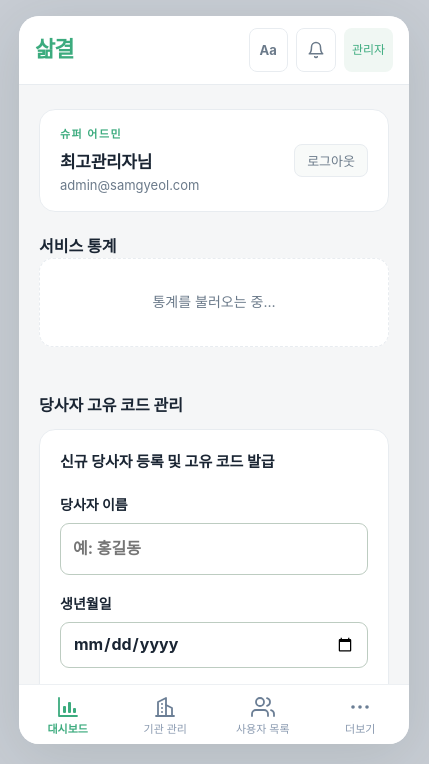
Test: 더보기 탭으로 이동하면 관리자 정보 및 시스템 현황이 표시된다
The width and height of the screenshot is (429, 764).
Click the tab "더보기" at {"x": 360, "y": 714}, box [312,685,409,744]
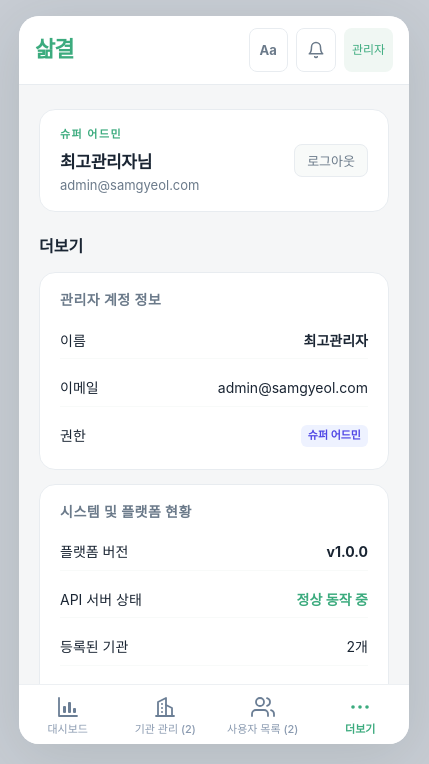
Check: the text "관리자 계정 정보" is shown, box [60,292,161,308]
Check: the text "플랫폼 버전" is shown, box [60,541,128,564]
Check: the text "v1.0.0" is shown, box [327,541,368,564]
